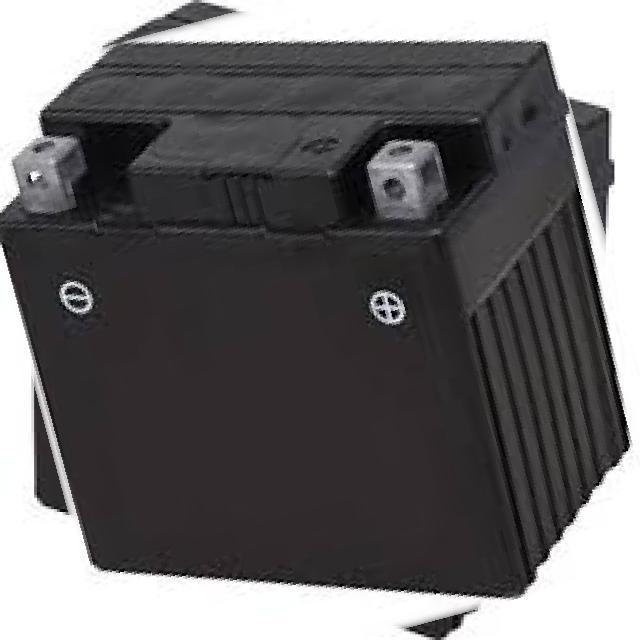Battery: (0, 3, 640, 640)
